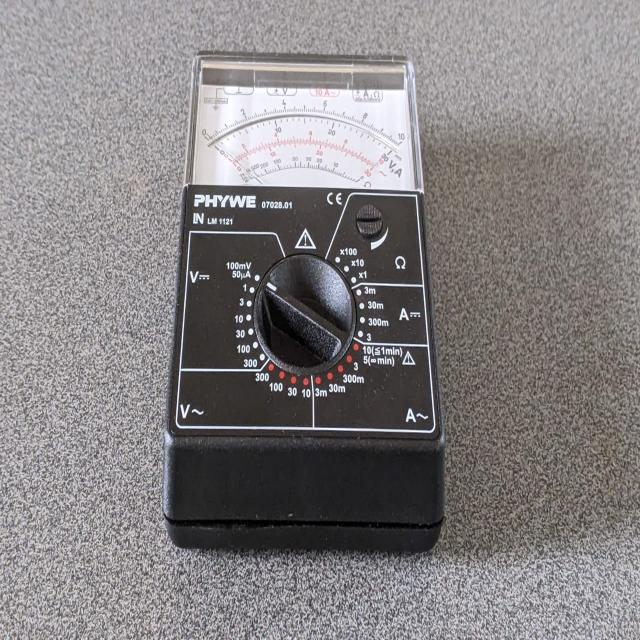Analog Multimeter: (160, 38, 454, 563)
